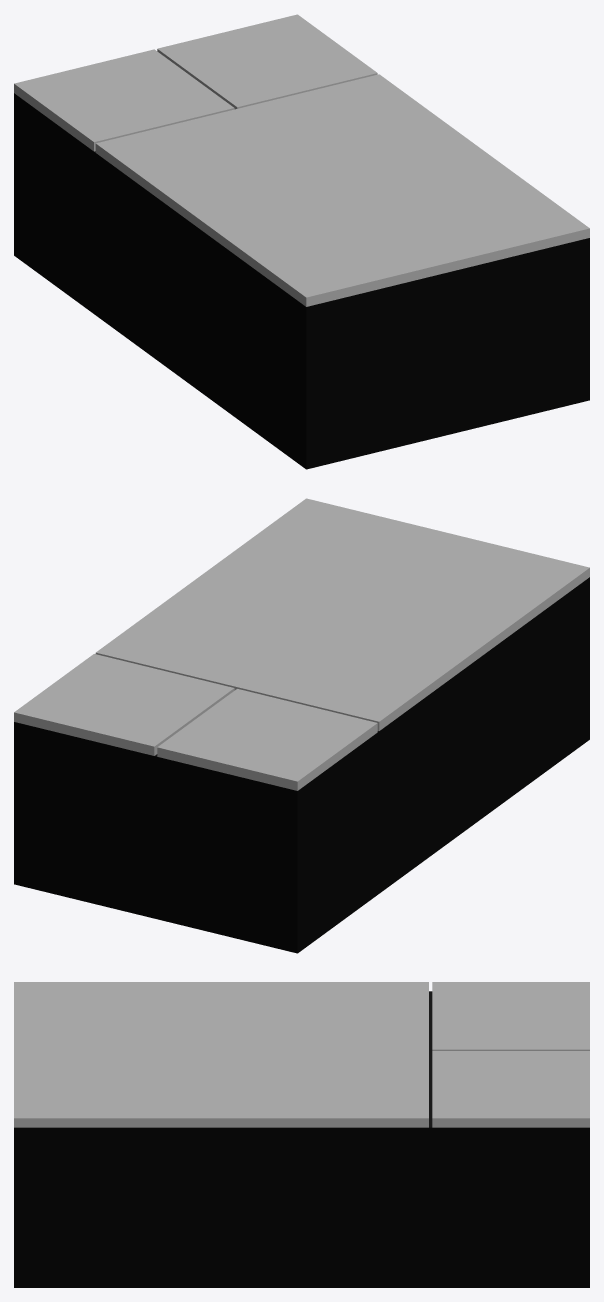
The model's file is Itr_Obj_Mouse_02.FBX.
The picture shows the model from 3 angles, top to bottom: view 1: azimuth 30°, elevation 25°; view 2: azimuth 150°, elevation 25°; view 3: azimuth 270°, elevation 25°; orthographic projection.
Parts seen in each view (by area): view 1: Itr_Obj_Mouse_02; view 2: Itr_Obj_Mouse_02; view 3: Itr_Obj_Mouse_02.
Boxes of the visible parts, left/top/right/bottom form: Itr_Obj_Mouse_02: left=14, top=14, right=589, bottom=469; Itr_Obj_Mouse_02: left=14, top=498, right=589, bottom=953; Itr_Obj_Mouse_02: left=14, top=982, right=589, bottom=1287.
Size of the model in its own units: 2.75 by 1.6 by 4.92.
